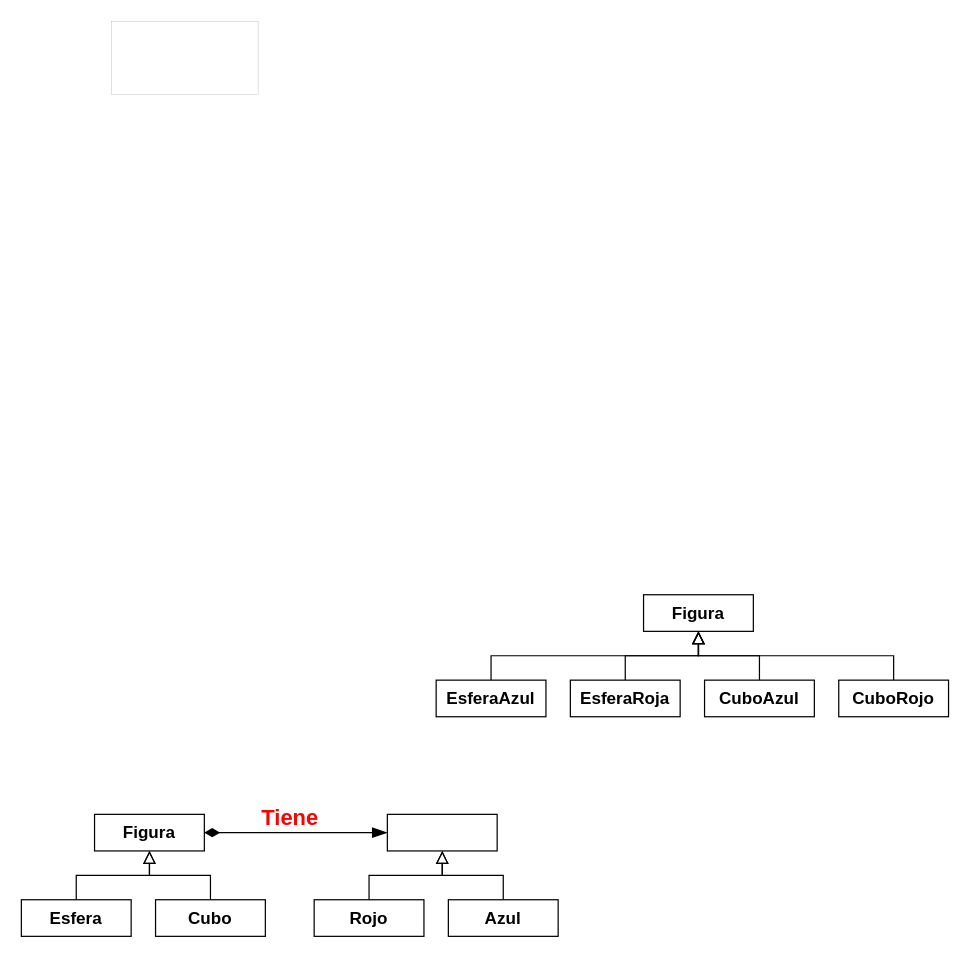
This 970x958 diagram has some shape labels left out. Here are the shapes that lost their labels. From the top down, the centre of each, then its label:
pixel 184 57: Direct inputs
pixel 441 832: Color
